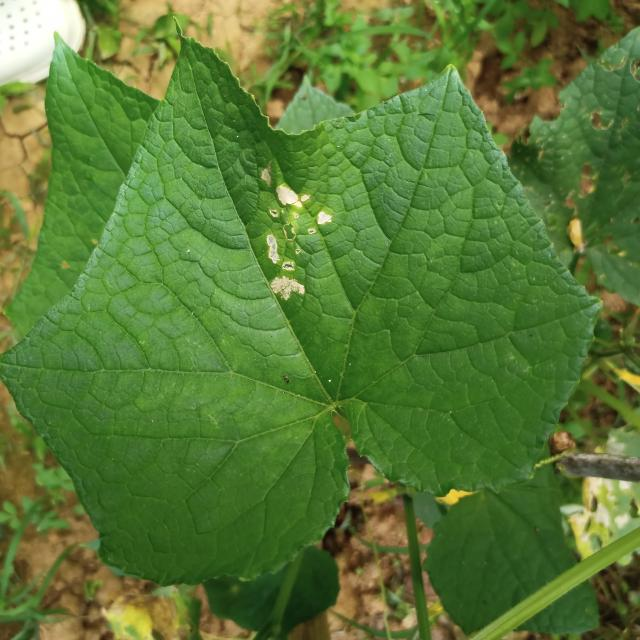disease_cucumber: (248, 164, 335, 312)
